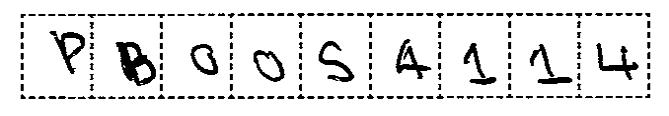0: (246, 44, 292, 89), (184, 38, 221, 80)
1: (454, 38, 503, 90), (524, 42, 576, 90)
4: (593, 36, 643, 86)
5: (314, 35, 362, 89)
A: (391, 33, 434, 85)
B: (110, 38, 158, 92)
P: (47, 25, 88, 78)
